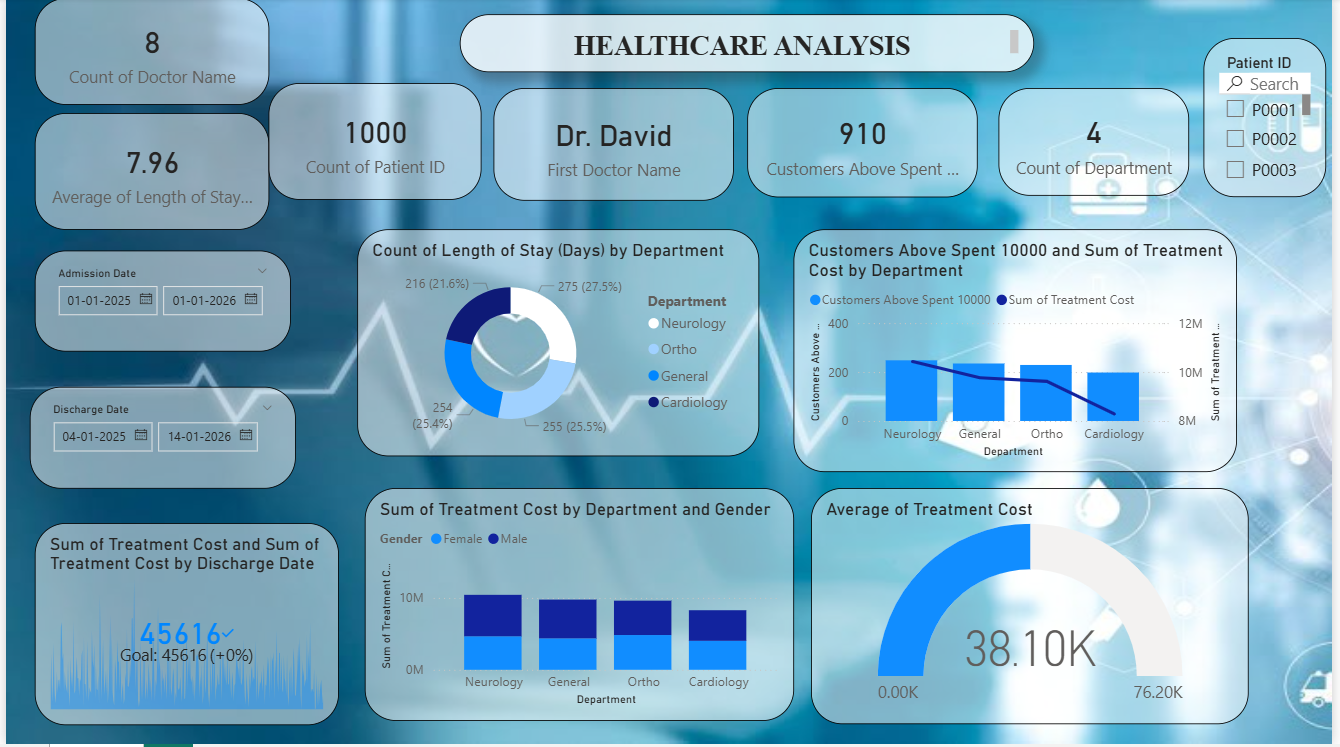

The dashboard page shown, as its layout file describes it:
{"tool":"powerbi","page":{"name":"Page 1","canvas":[1280,720],"ordinal":0},"visuals":[{"type":"donutChart","fields":{"Category":["Hospital_Data.Department"],"Y":["CountNonNull(Hospital_Data.Length of Stay (Days))"]},"box":[338.9,223.7,388.3,219.6],"z":0},{"type":"card","fields":{"Values":["Avg(Hospital_Data.Length of Stay (Days))"]},"box":[27.4,111.1,226.4,112.5],"z":1000},{"type":"card","fields":{"Values":["CountNonNull(Hospital_Data.Patient ID)"]},"box":[253.9,82.3,205.8,112.5],"z":2000},{"type":"gauge","fields":{"Y":["Avg(Hospital_Data.Treatment Cost)"]},"box":[776.7,473.4,422.6,227.8],"z":3000},{"type":"kpi","fields":{"TrendLine":["Hospital_Data.Discharge Date"],"Indicator":["Sum(Hospital_Data.Treatment Cost)"],"Goal":["Sum(Hospital_Data.Treatment Cost)"]},"box":[27.4,506.3,293.7,194.9],"z":4000},{"type":"columnChart","fields":{"Y":["Sum(Hospital_Data.Treatment Cost)"],"Category":["Hospital_Data.Department"],"Series":["Hospital_Data.Gender"]},"box":[345.8,473.4,414.4,225],"z":5000},{"type":"slicer","fields":{"Values":["Hospital_Data.Patient ID"]},"box":[1155.4,38.4,118,153.7],"z":6000},{"type":"card","fields":{"Values":["Min(Hospital_Data.Doctor Name)"]},"box":[470.7,86.4,231.9,108.4],"z":7000},{"type":"card","fields":{"Values":["Hospital_Data.Customers Above 10000"]},"box":[714.9,86.4,222.3,105.7],"z":8000},{"type":"card","fields":{"Values":["Count(Hospital_Data.Department)"]},"box":[957.8,86.4,183.9,104.3],"z":9000},{"type":"card","fields":{"Values":["Count(Hospital_Data.Doctor Name)"]},"box":[27.4,0,226.4,102.9],"z":10000},{"type":"slicer","fields":{"Values":["Hospital_Data.Admission Date"]},"box":[27.4,244.3,247,97.4],"z":11000},{"type":"slicer","fields":{"Values":["Hospital_Data.Discharge Date"]},"box":[23.3,374.6,256.6,98.8],"z":12000},{"type":"lineStackedColumnComboChart","fields":{"Y":["Hospital_Data.Customers Above Spent 10000"],"Category":["Hospital_Data.Department"],"Y2":["Sum(Hospital_Data.Treatment Cost)"]},"box":[760.2,223.7,428.1,234.6],"z":12002},{"type":"textbox","box":[437.7,15.1,554.4,56.3],"z":12003}]}

Visuals, with their boxes in screenshot pixels (x1, y1, x2, y2), scaled from the page's 1280x720 canvas onto the 1340x747 screenshot:
donutChart - Hospital_Data.Department x CountNonNull(Hospital_Data.Length of Stay (Days)): <region>355, 232, 761, 460</region>
card - Avg(Hospital_Data.Length of Stay (Days)): <region>29, 115, 266, 232</region>
card - CountNonNull(Hospital_Data.Patient ID): <region>266, 85, 481, 202</region>
gauge - Avg(Hospital_Data.Treatment Cost): <region>813, 491, 1256, 727</region>
kpi - Hospital_Data.Discharge Date x Sum(Hospital_Data.Treatment Cost): <region>29, 525, 336, 727</region>
columnChart - Sum(Hospital_Data.Treatment Cost) x Hospital_Data.Department: <region>362, 491, 796, 725</region>
slicer - Hospital_Data.Patient ID: <region>1210, 40, 1333, 199</region>
card - Min(Hospital_Data.Doctor Name): <region>493, 90, 736, 202</region>
card - Hospital_Data.Customers Above 10000: <region>748, 90, 981, 199</region>
card - Count(Hospital_Data.Department): <region>1003, 90, 1195, 198</region>
card - Count(Hospital_Data.Doctor Name): <region>29, 0, 266, 107</region>
slicer - Hospital_Data.Admission Date: <region>29, 253, 287, 355</region>
slicer - Hospital_Data.Discharge Date: <region>24, 389, 293, 491</region>
lineStackedColumnComboChart - Hospital_Data.Customers Above Spent 10000 x Hospital_Data.Department: <region>796, 232, 1244, 475</region>
textbox: <region>458, 16, 1039, 74</region>
